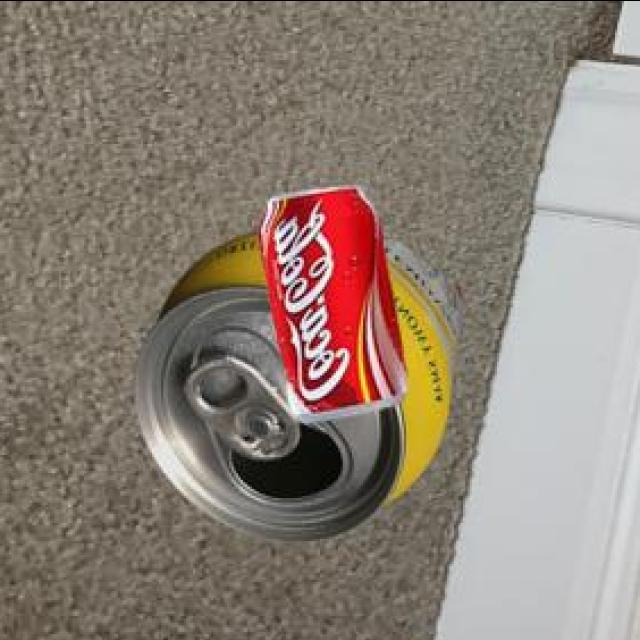logam: (137, 233, 466, 544), (262, 190, 410, 426)
